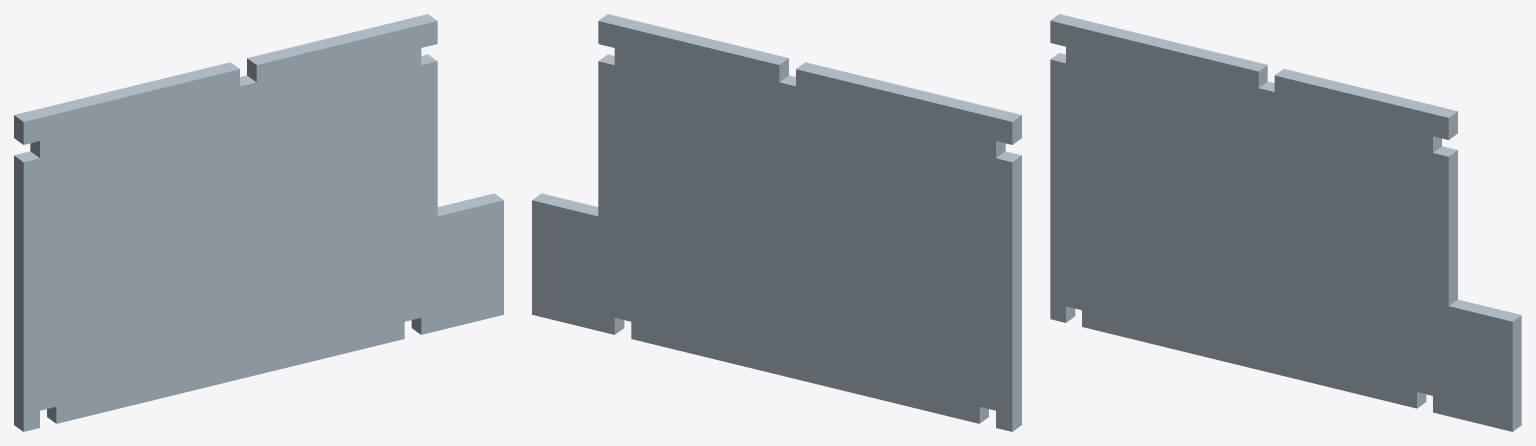
Rendered from prt0004.obj.
The picture shows the model from 3 angles, left to right: view 1: azimuth 30°, elevation 25°; view 2: azimuth 150°, elevation 25°; view 3: azimuth 330°, elevation 25°; orthographic projection. The views are drawn at different scales.
Visible parts, largest first — view 1: 1; view 2: 1; view 3: 1.
Part boxes in pixels (left/top/right/bottom): 1: left=14, top=14, right=503, bottom=431; 1: left=532, top=14, right=1021, bottom=431; 1: left=1050, top=14, right=1521, bottom=431.
Size of the model in its own units: 87.6 by 54.02 by 3.
